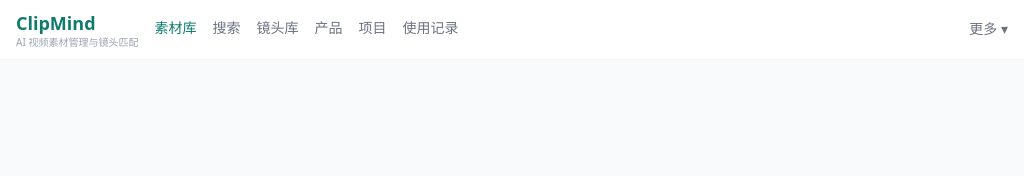
Test case: TopNav P2b 导航重组 › 脚本剪辑 / 导出 / 收藏收进「更多」菜单
Click the button with test id "nav-more" at (989, 29), box [969,19,1008,39]
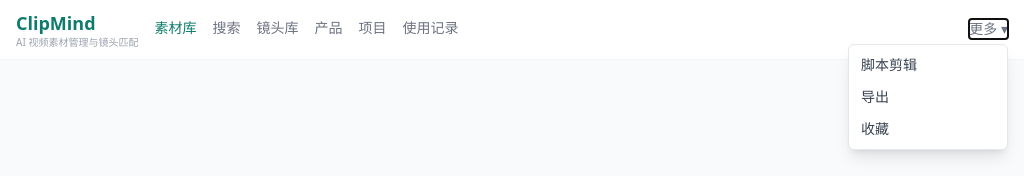
Expected: the menu item with test id "nav-script" reads "脚本剪辑", [861,55,917,74]
Expected: the menu item with test id "nav-exports" reads "导出", [861,87,889,106]
Expected: the menu item with test id "nav-favorites" reads "收藏", [861,119,889,138]
